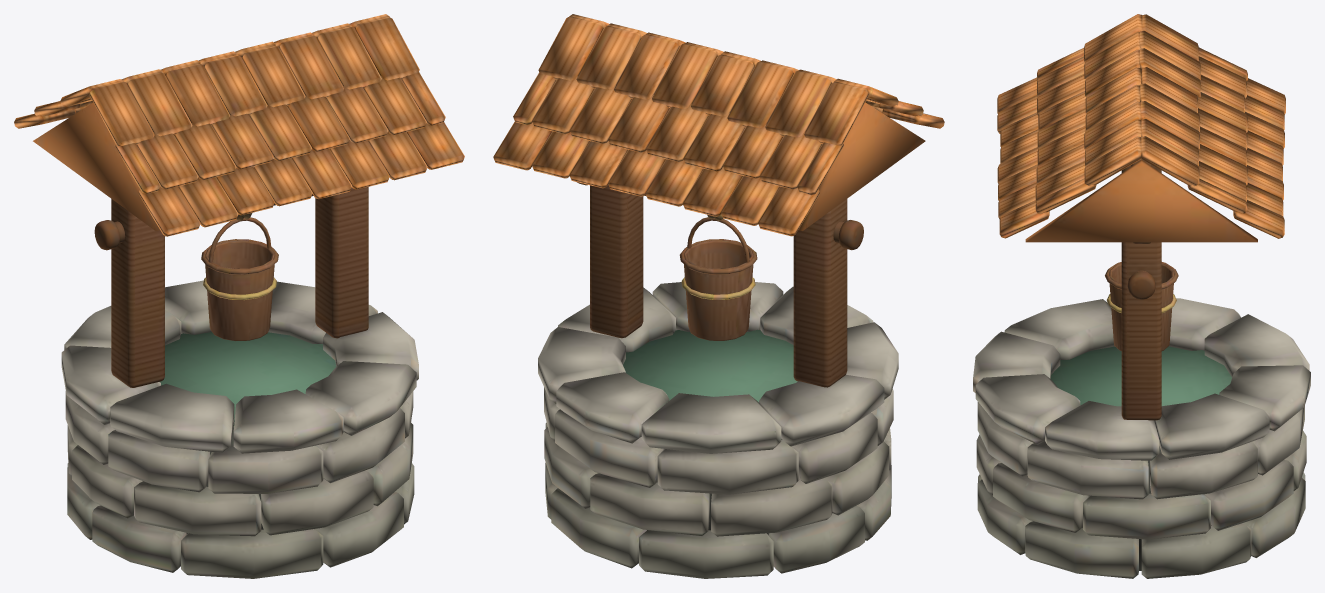
The model's file is well_4_high.glb.
The picture shows the model from 3 angles, left to right: view 1: azimuth 30°, elevation 25°; view 2: azimuth 150°, elevation 25°; view 3: azimuth 270°, elevation 25°; orthographic projection. The views are drawn at different scales.
Visible parts, largest first — view 1: well_4; view 2: well_4; view 3: well_4.
Boxes of the visible parts, <box> form: well_4: <box>14,14,464,578</box>; well_4: <box>493,14,944,578</box>; well_4: <box>973,14,1310,578</box>.
Bounding box in the file's own units: 1.3 × 1.84 × 1.31.
Materials: 1 (1 with a texture image).
